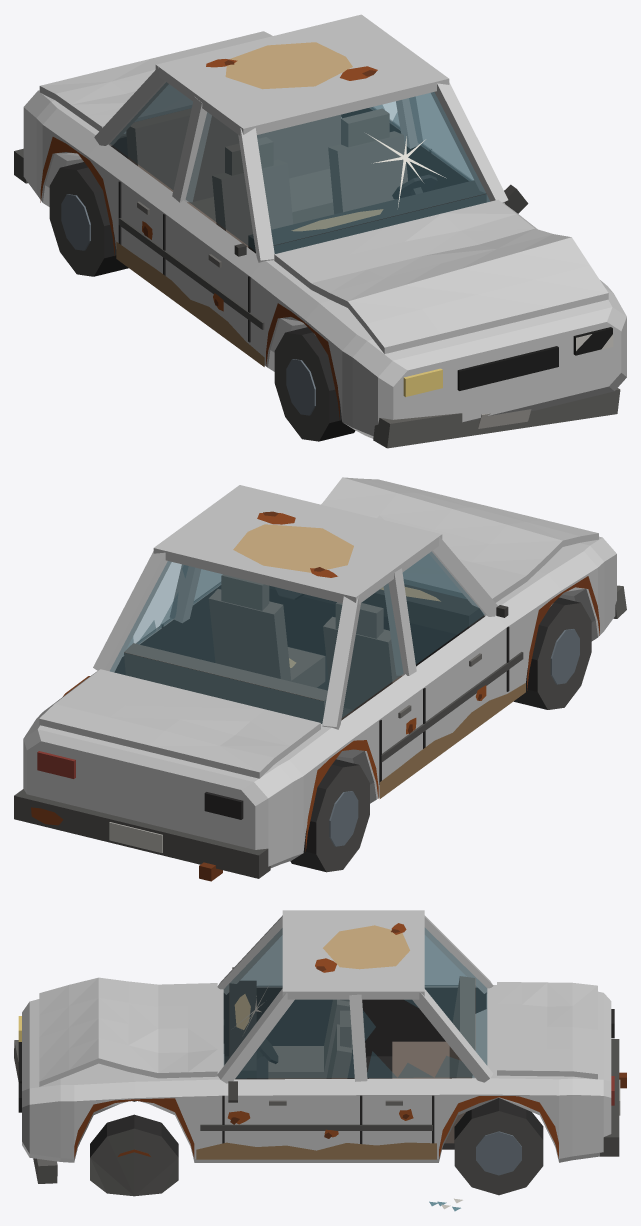
Rendered from Sedan.obj.
3 views of the same model, one above another, from view 1: azimuth 30°, elevation 25°; view 2: azimuth 150°, elevation 25°; view 3: azimuth 270°, elevation 25° (orthographic). The views are drawn at different scales.
Parts seen in each view (by area): view 1: Body_Body, Trim_Trim, Glass_Glass, Hood_Hood, Trunk_Trunk, Wheel_FR_Wheel_FR, Wheel_RR_Wheel_RR, Steering_Steering; view 2: Body_Body, Trim_Trim, Glass_Glass, Trunk_Trunk, Hood_Hood, Wheel_RR_Wheel_RR, Wheel_FR_Wheel_FR; view 3: Body_Body, Trim_Trim, Glass_Glass, Hood_Hood, Trunk_Trunk, Wheel_RL_Wheel_RL, Wheel_FL_Wheel_FL.
Boxes of the visible parts, x1,y1,x2,y2 form: Body_Body: [23, 14, 626, 438]; Trim_Trim: [14, 42, 620, 448]; Glass_Glass: [110, 82, 489, 253]; Hood_Hood: [274, 199, 608, 353]; Trunk_Trunk: [39, 31, 272, 131]; Wheel_FR_Wheel_FR: [274, 327, 355, 441]; Wheel_RR_Wheel_RR: [49, 162, 128, 276]; Steering_Steering: [392, 174, 437, 199]; Body_Body: [23, 485, 616, 867]; Trim_Trim: [14, 511, 626, 881]; Glass_Glass: [110, 551, 484, 723]; Trunk_Trunk: [39, 669, 320, 778]; Hood_Hood: [321, 477, 598, 602]; Wheel_RR_Wheel_RR: [290, 759, 369, 872]; Wheel_FR_Wheel_FR: [513, 597, 591, 709]; Body_Body: [22, 910, 611, 1162]; Trim_Trim: [14, 923, 626, 1211]; Glass_Glass: [223, 928, 487, 1078]; Hood_Hood: [39, 977, 217, 1086]; Trunk_Trunk: [497, 982, 597, 1079]; Wheel_RL_Wheel_RL: [454, 1098, 543, 1195]; Wheel_FL_Wheel_FL: [90, 1114, 178, 1196].
Bounding box in the file's own units: 7.65 × 5.45 × 15.8.
